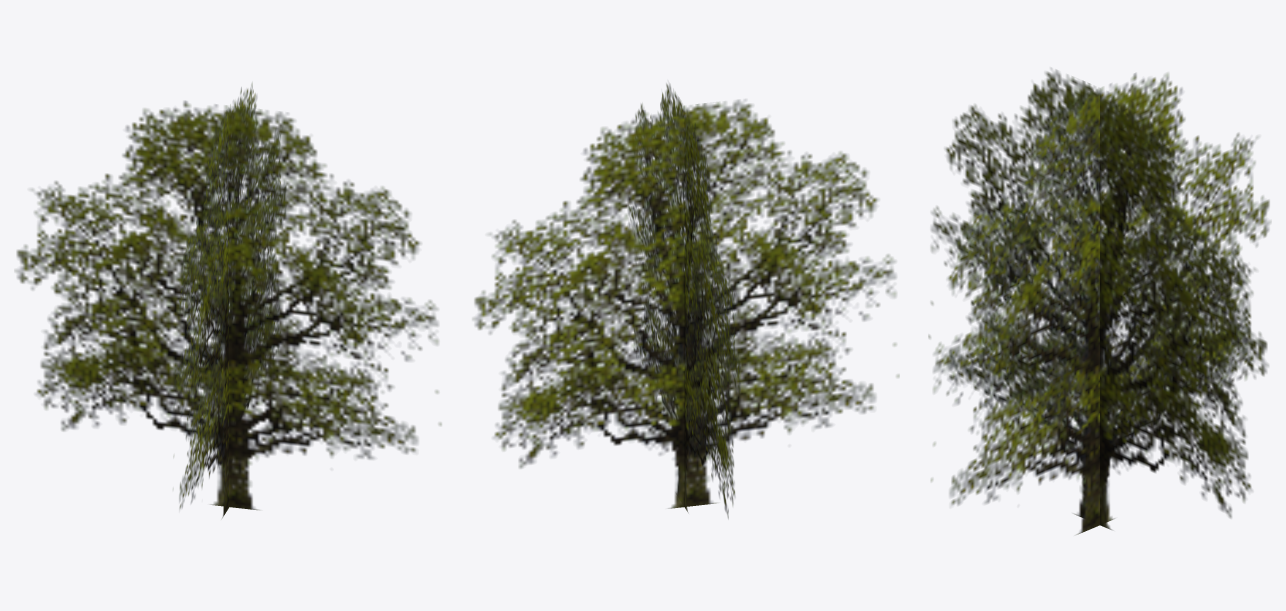
File: tree094.glb
3 views of the same model, side by side, from view 1: azimuth 30°, elevation 25°; view 2: azimuth 150°, elevation 25°; view 3: azimuth 270°, elevation 25° (orthographic). The views are drawn at different scales.
Parts seen in each view (by area): view 1: tree094; view 2: tree094; view 3: tree094.
Boxes of the visible parts, x1,y1,x2,y2 form: tree094: (15, 83, 441, 517); tree094: (473, 83, 899, 518); tree094: (928, 68, 1270, 534).
Bounding box in the file's own units: 2.78 × 4 × 2.78.
Materials: 1 (1 with a texture image).
